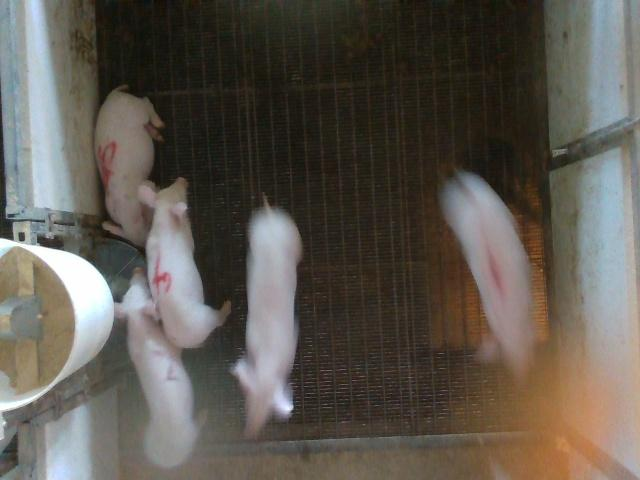pig-1: (439, 171, 535, 378)
pig-2: (115, 269, 198, 468)
pig-4: (138, 178, 231, 348)
pig-5: (95, 85, 164, 247)
